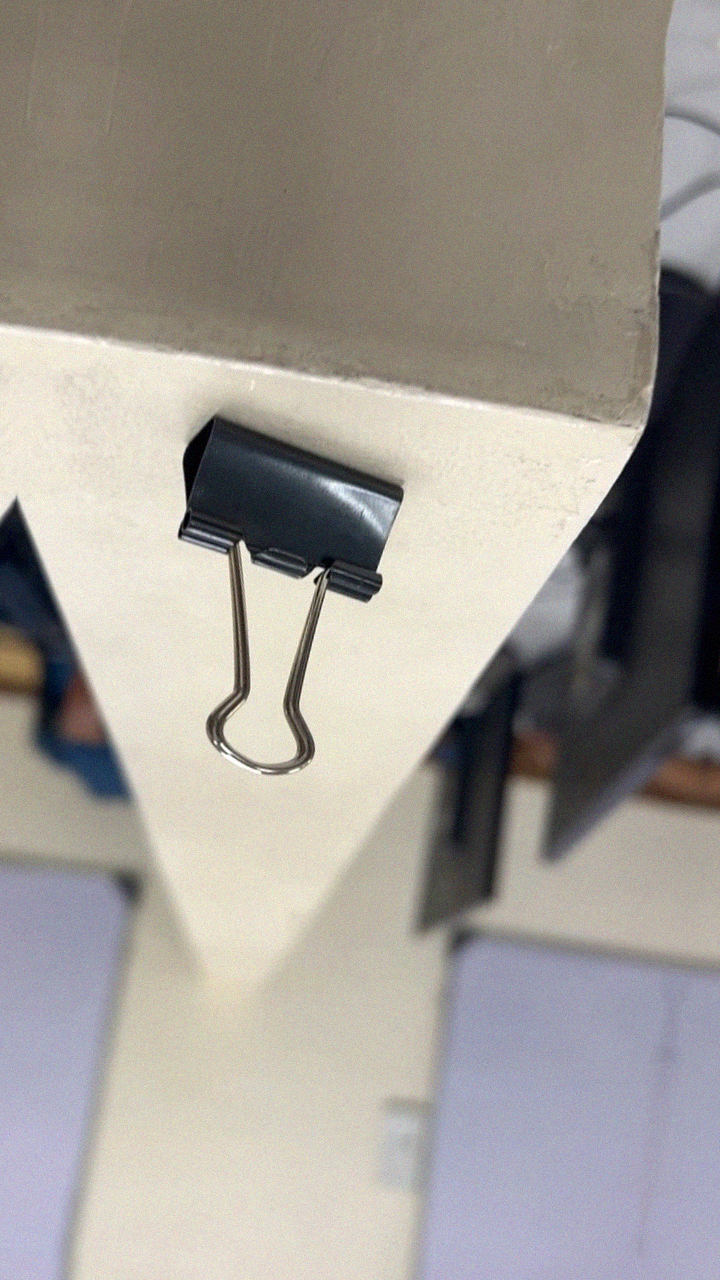kep_giay: (134, 414, 413, 793)
